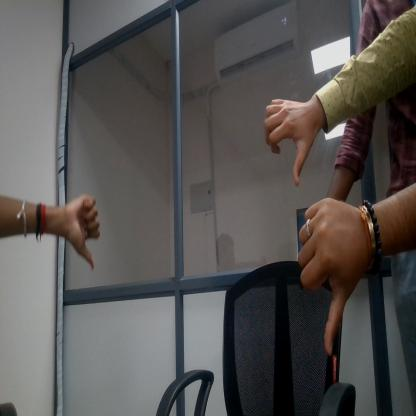Thumbs Down: (286, 185, 369, 374), (258, 88, 325, 193), (58, 186, 111, 277)
